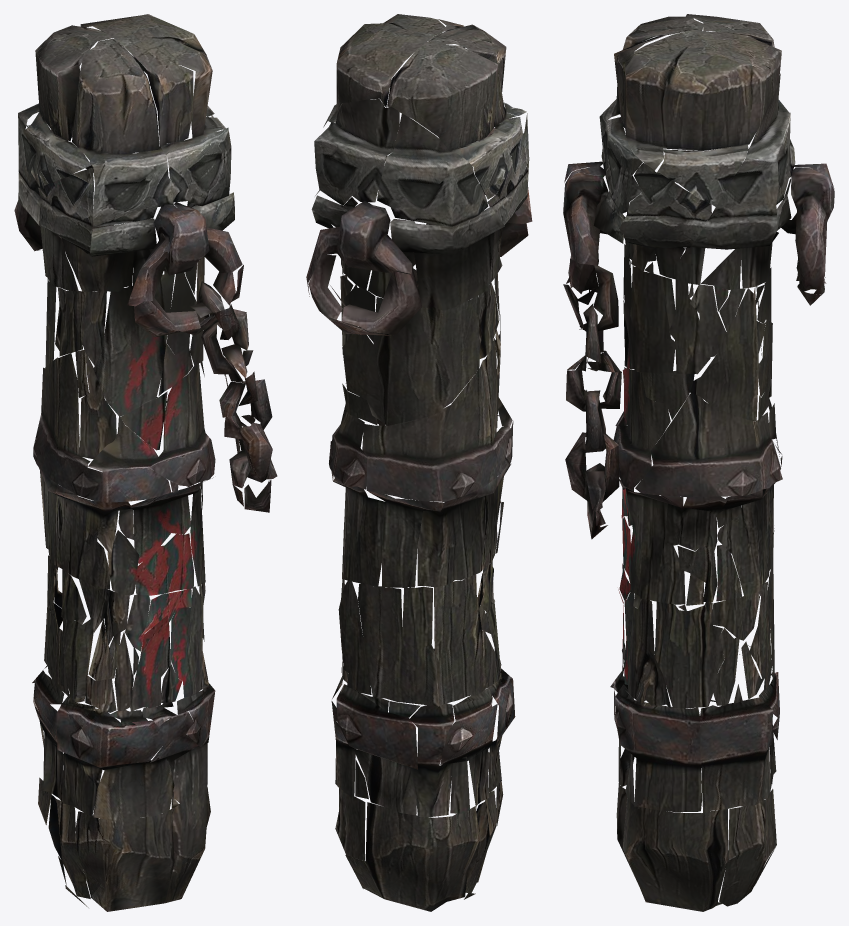
Rendered from chain_post.glb.
3 views of the same model, side by side, from view 1: azimuth 30°, elevation 25°; view 2: azimuth 150°, elevation 25°; view 3: azimuth 270°, elevation 25° (orthographic).
Parts seen in each view (by area): view 1: tripo_node_7fe85444-3010-46fb-87a0-a0744a4f6d3e; view 2: tripo_node_7fe85444-3010-46fb-87a0-a0744a4f6d3e; view 3: tripo_node_7fe85444-3010-46fb-87a0-a0744a4f6d3e.
Boxes of the visible parts, x1,y1,x2,y2 form: tripo_node_7fe85444-3010-46fb-87a0-a0744a4f6d3e: (14,14,277,911); tripo_node_7fe85444-3010-46fb-87a0-a0744a4f6d3e: (306,14,532,911); tripo_node_7fe85444-3010-46fb-87a0-a0744a4f6d3e: (563,14,834,911).
Size of the model in its own units: 0.2235 by 0.9793 by 0.2823.
Materials: 1 (1 with a texture image).
